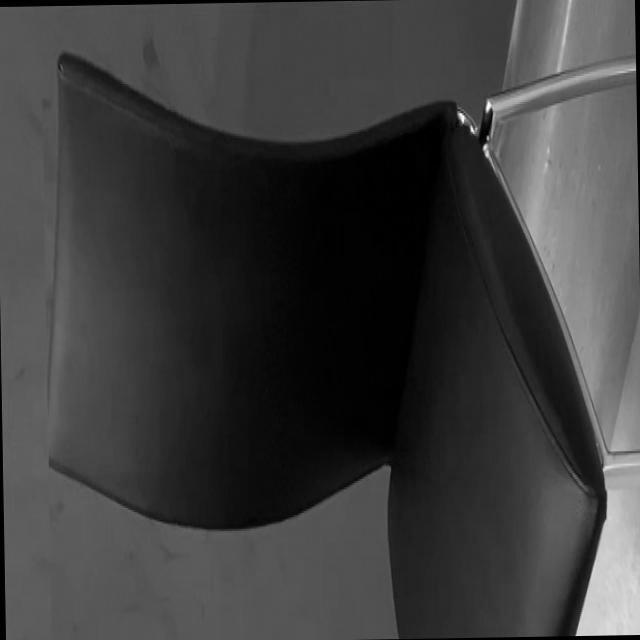chair: (37, 34, 640, 636)
